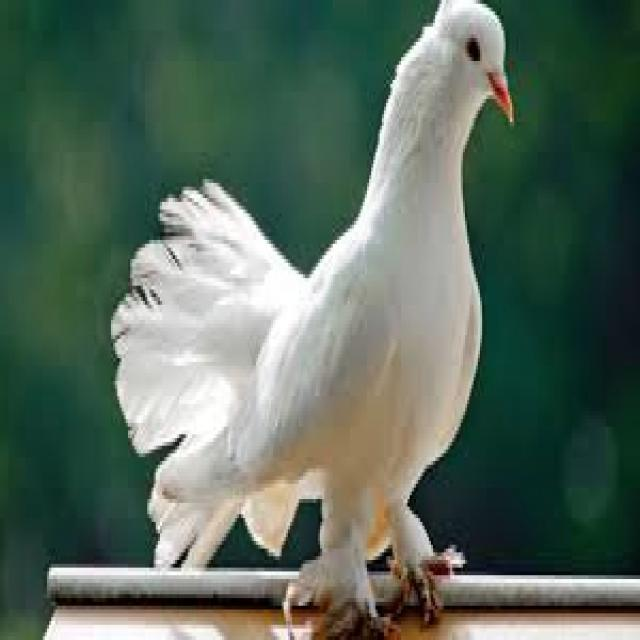pigeon: (113, 0, 514, 632)
